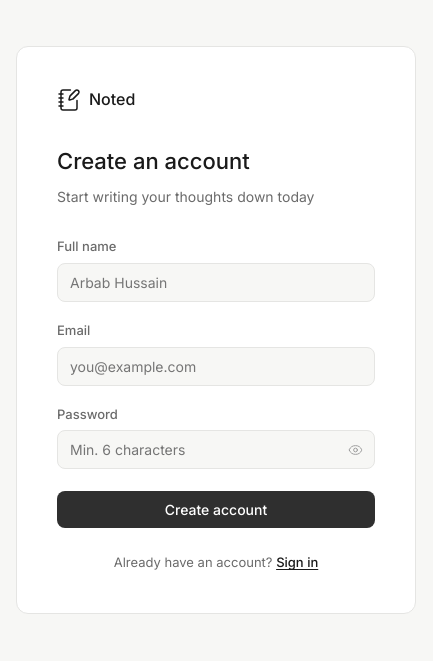
Scenario: Signup Page › should show error when password is less than 6 characters
Type "John Doe" into the field with placeholder "Arbab Hussain" at (216, 282), box [57,263,375,302]
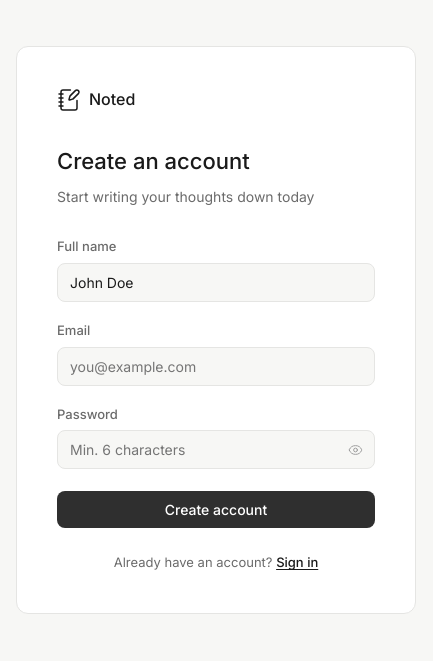
Type "john@example.com" into the field with placeholder "you@example.com" at (216, 366), box [57,347,375,386]
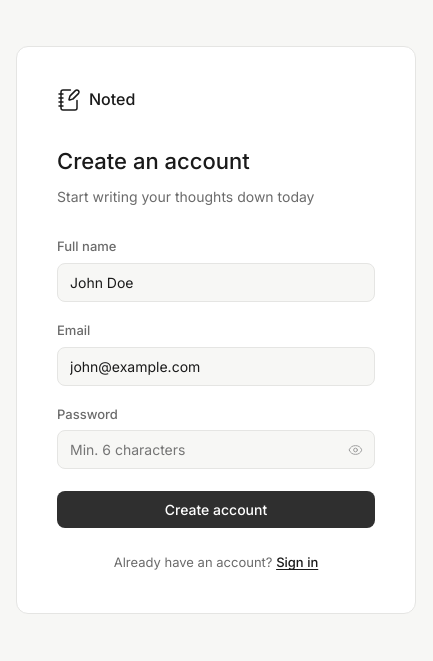
Type "123" into the password field with placeholder "Min. 6 characters" at (216, 450), box [57,430,375,469]
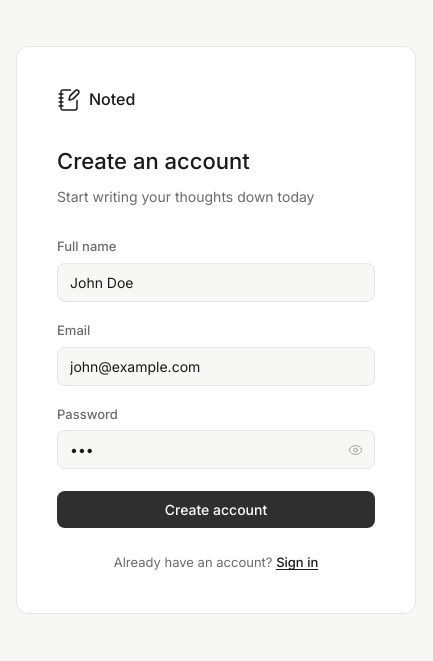
Click the button "Create account" at (216, 510), box [57,491,375,528]
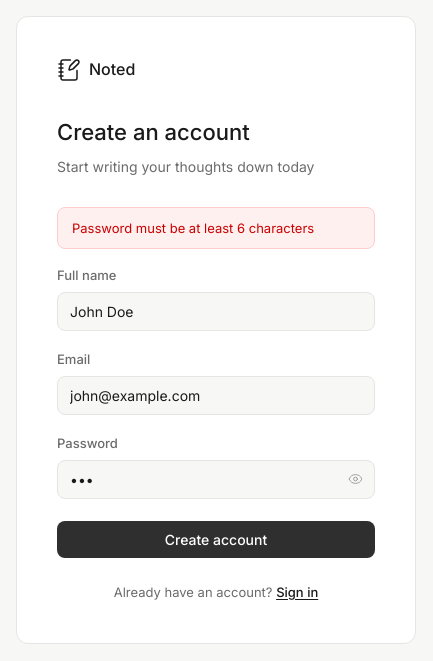
Expected: the text "Password must be at least 6 characters" is shown, [57,207,375,249]
